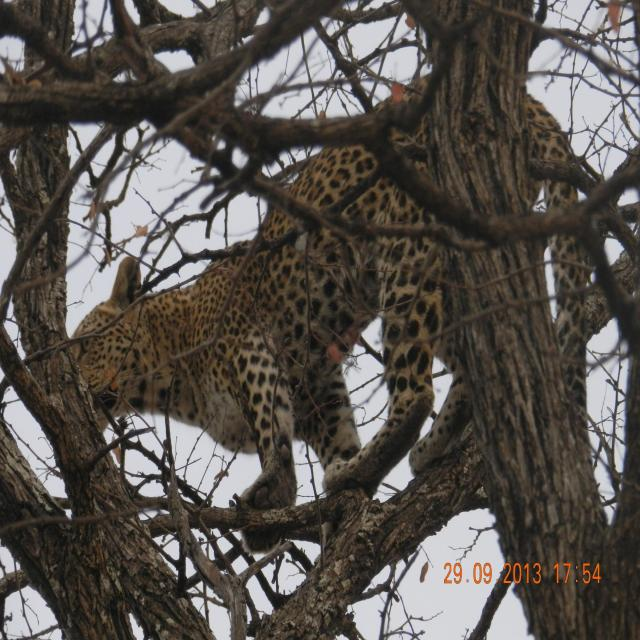Leopard: (53, 22, 640, 613)
